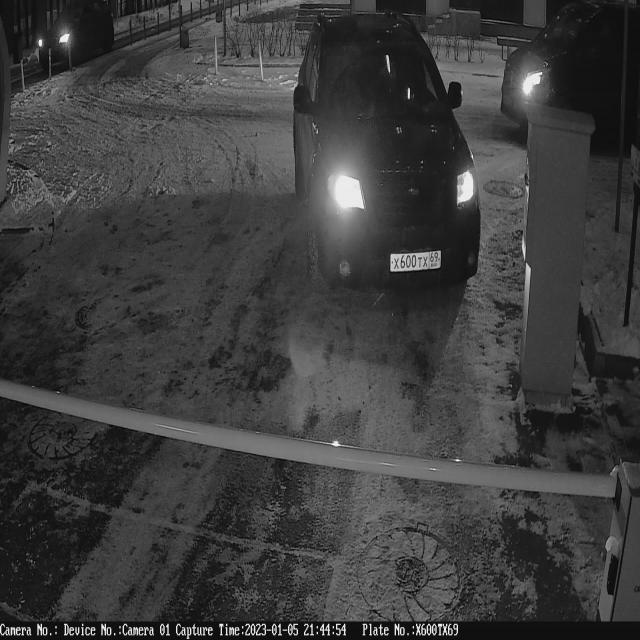car-plate-numbers: (387, 248, 446, 278)
